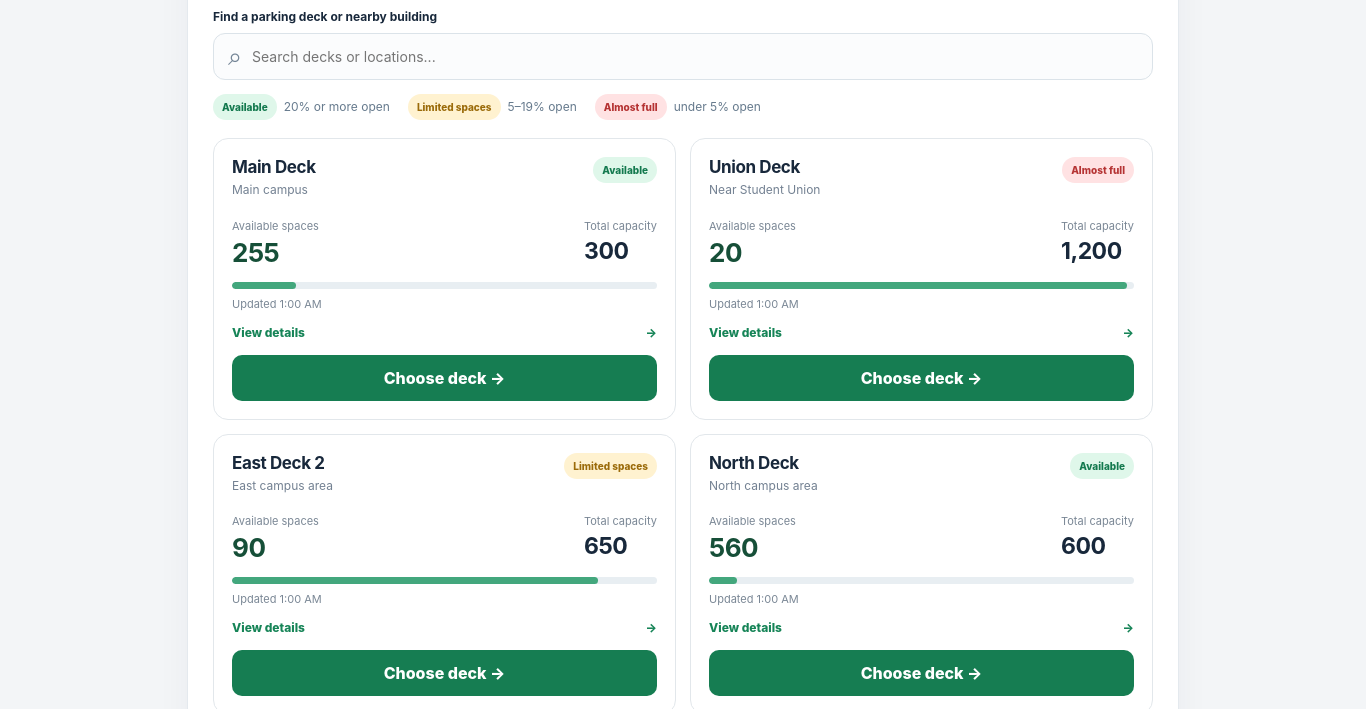
only one deck’s details are open at a time
(page scrolled)
Expected: the heading "Main Deck" is shown, x1=232 y1=157 x2=316 y2=177
Click the button "View details →" below "255". click: [268, 332]
box: x1=232 y1=311 x2=657 y2=340
(page scrolled)
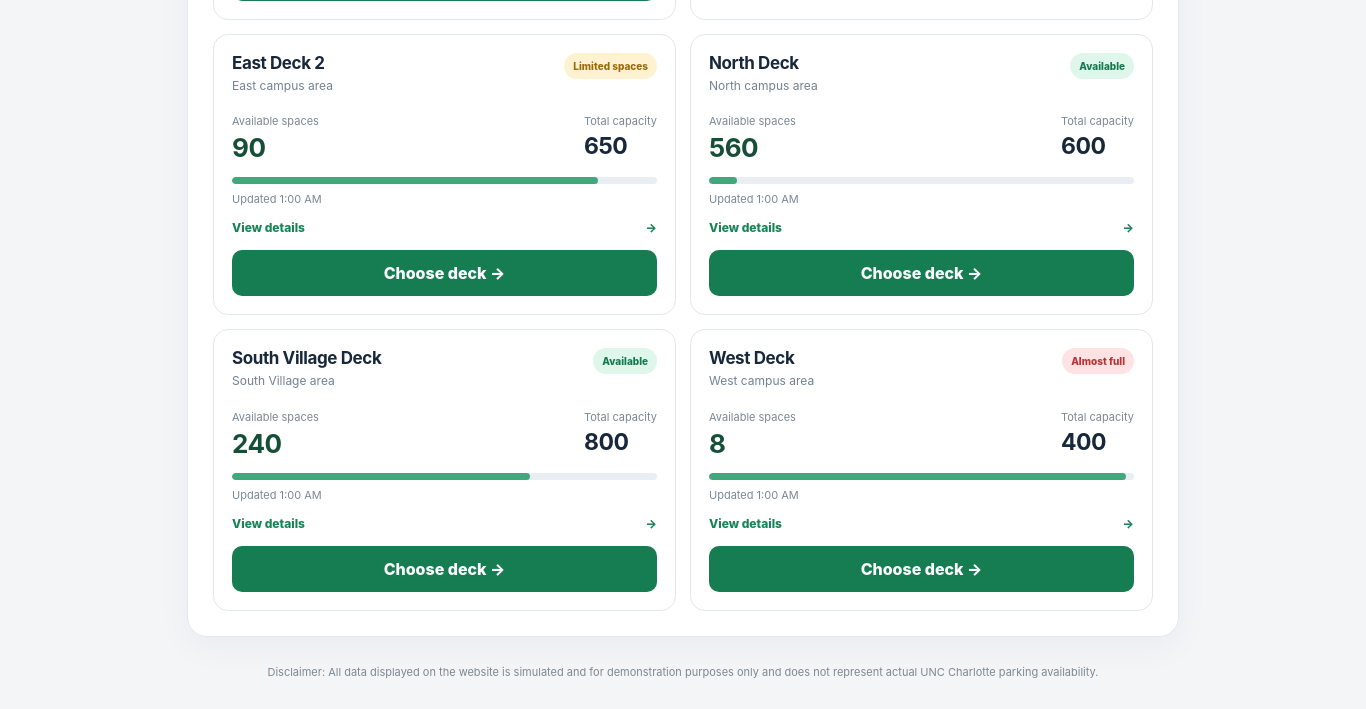
Click the button "View details →" below "400". click: [745, 524]
box: x1=709 y1=502 x2=1134 y2=531
(page scrolled)
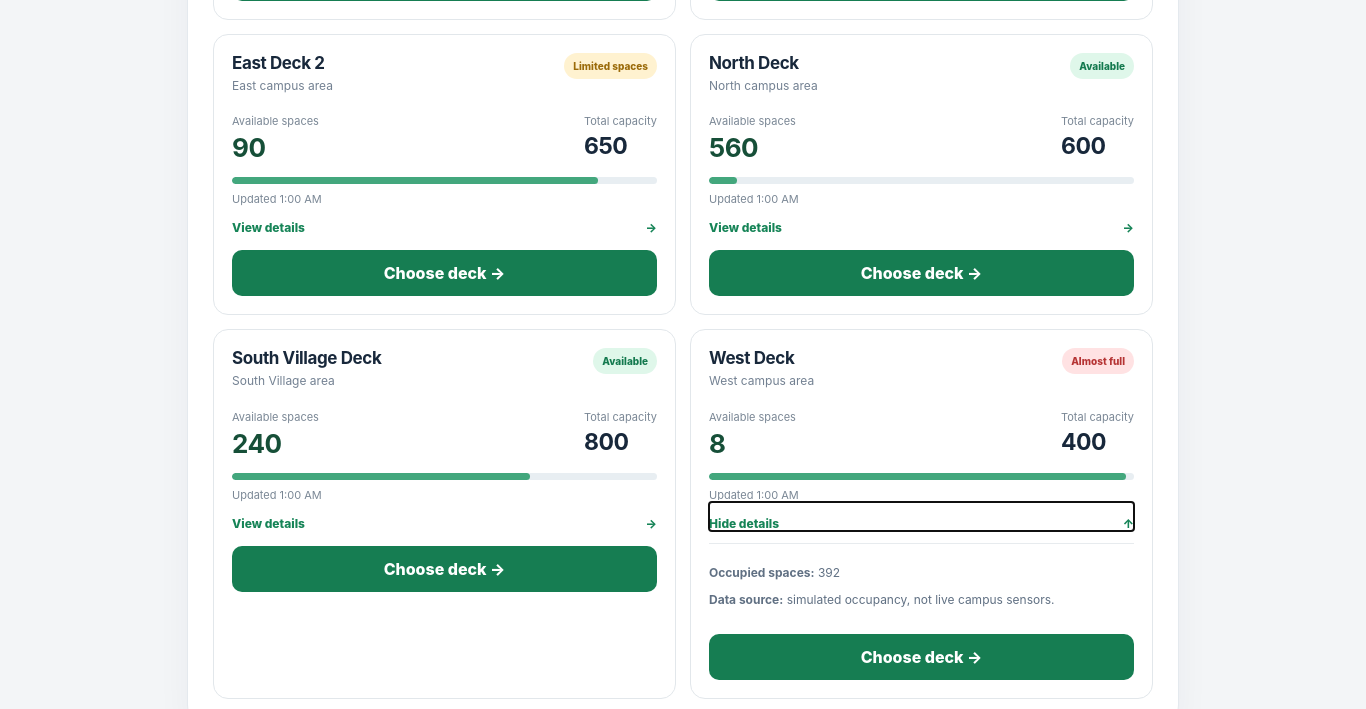
Click the button "Hide details ↑". click: [744, 524]
box: x1=709 y1=502 x2=1134 y2=531
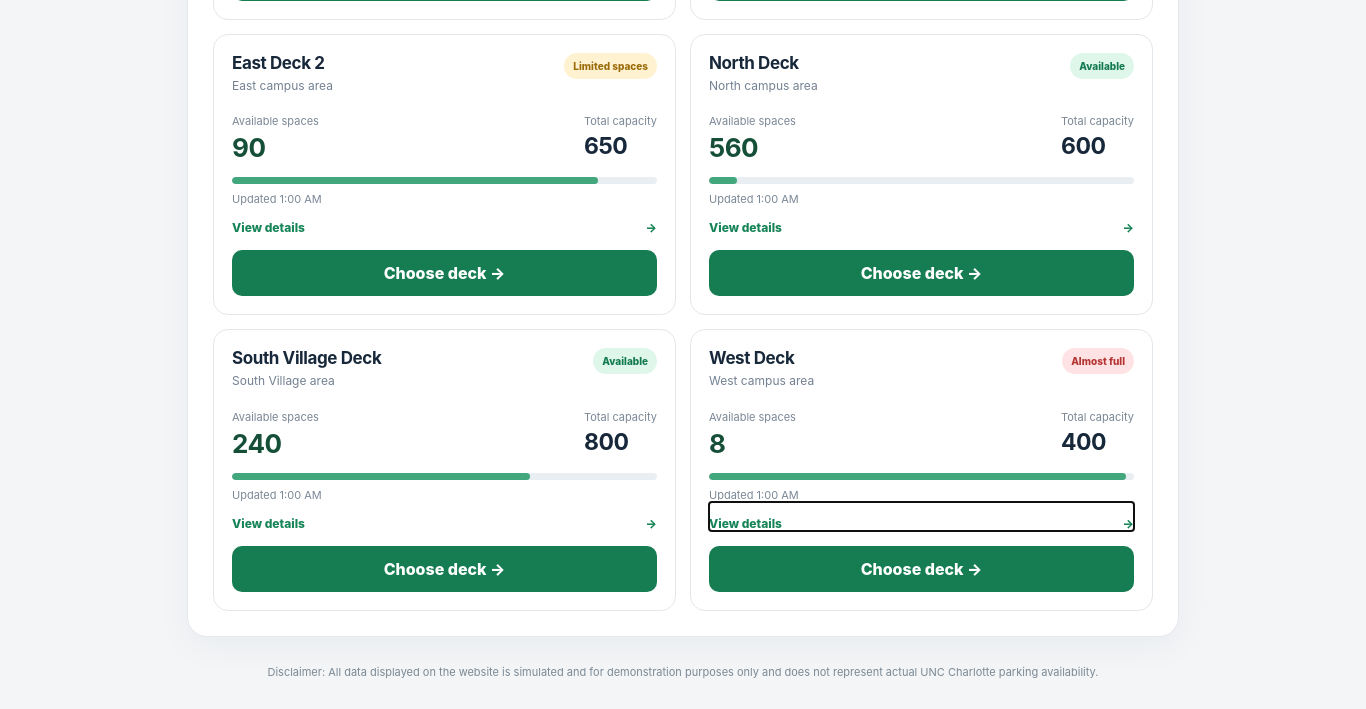
Expected: the text "Occupied spaces:" is gone
